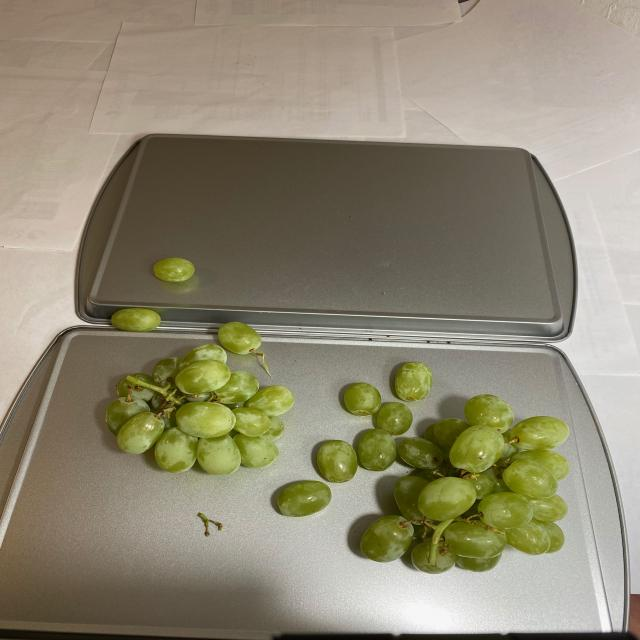Grapes: (107, 257, 574, 578)
